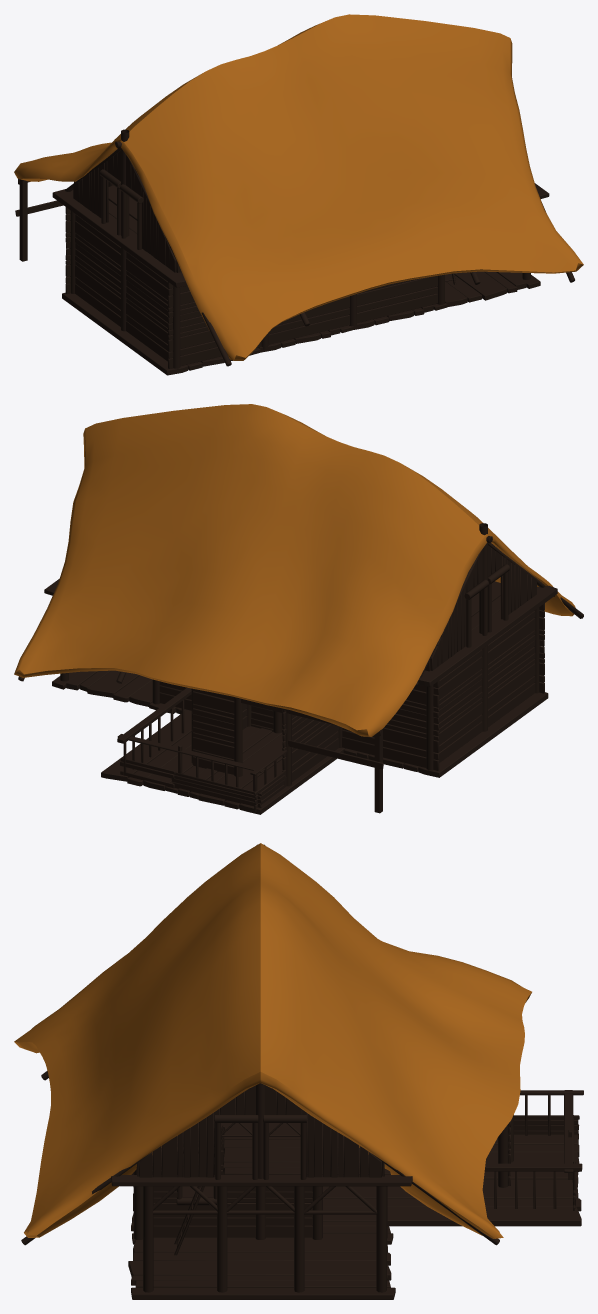
File: -LOD0_p_hut_001.obj
3 renders of one model, top to bottom at view 1: azimuth 30°, elevation 25°; view 2: azimuth 150°, elevation 25°; view 3: azimuth 270°, elevation 25°, orthographic. The views are drawn at different scales.
Parts seen in each view (by area): view 1: Cylinder.001_Cylinder.000, Cylinder.007_Cylinder.001; view 2: Cylinder.001_Cylinder.000, Cylinder.007_Cylinder.001; view 3: Cylinder.001_Cylinder.000, Cylinder.007_Cylinder.001.
Part boxes in pixels (x1,y1,x2,y2): Cylinder.001_Cylinder.000: (14,14,583,360); Cylinder.007_Cylinder.001: (15,129,574,375); Cylinder.001_Cylinder.000: (14,404,575,736); Cylinder.007_Cylinder.001: (18,523,583,814); Cylinder.001_Cylinder.000: (14,843,531,1238); Cylinder.007_Cylinder.001: (21,844,583,1299).
Bounding box in the file's own units: 18.02 × 11.54 × 18.74.
